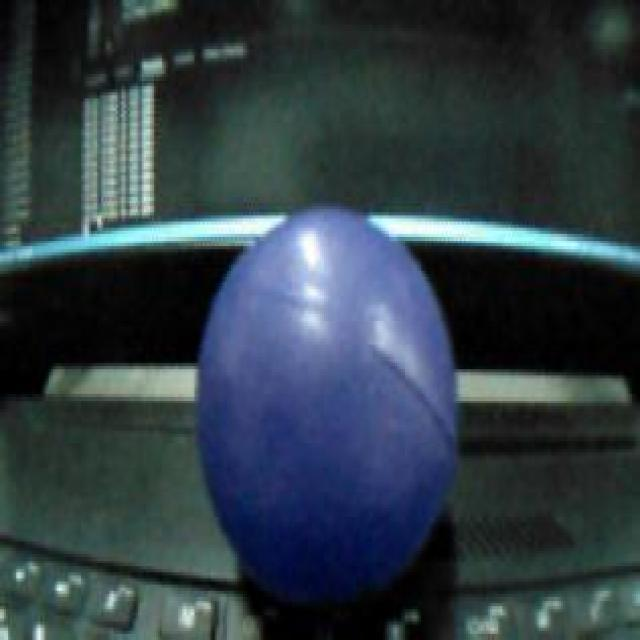BallPurple: (199, 210, 456, 590)
